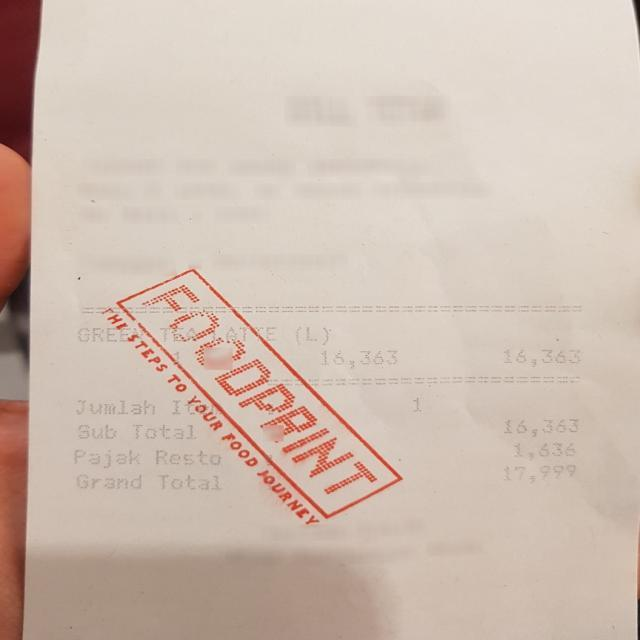kertas: (24, 0, 638, 640)
